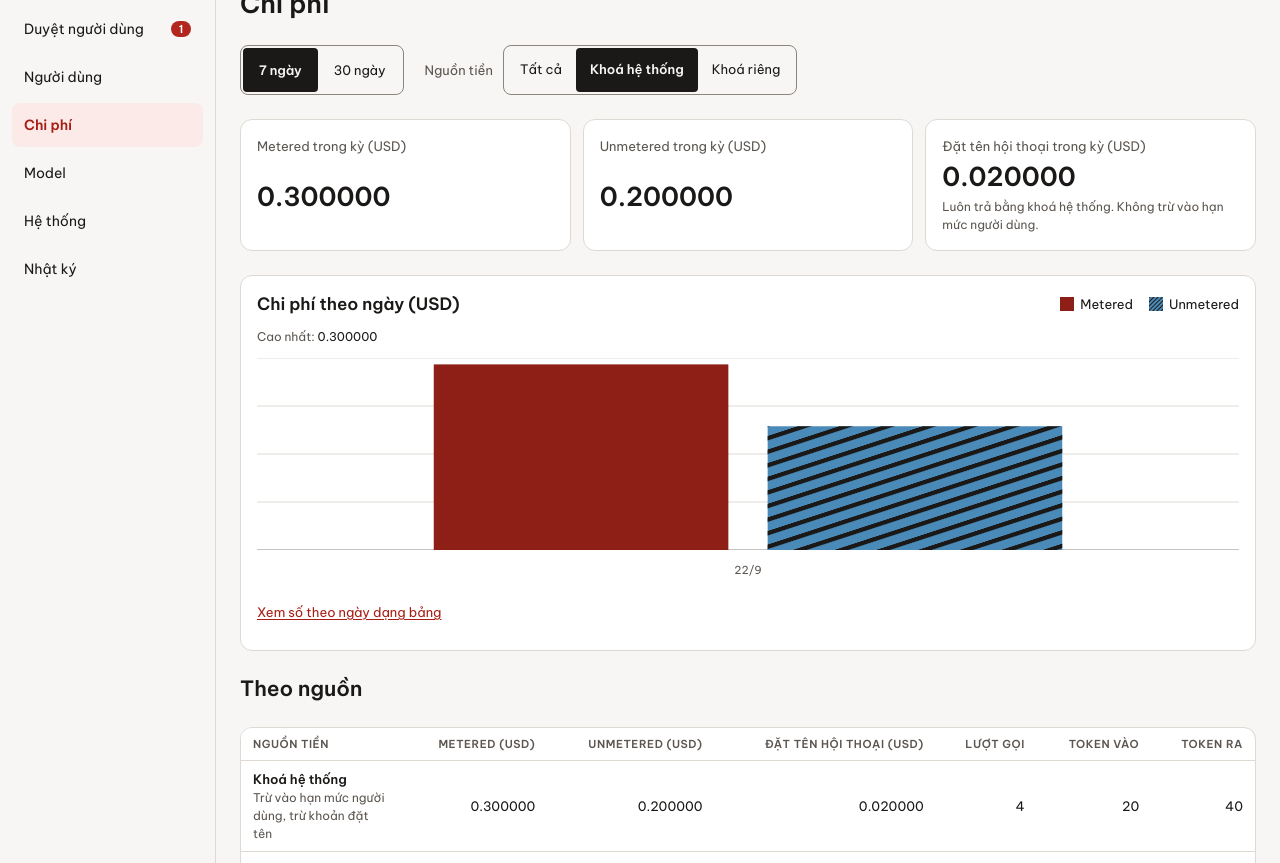
Chi phi › T-S.19c: bang Theo nguon them Token vao/ra; nguon 'Khoa rieng' chi con token + dong duong di
Expected: the column heading "Token vào" is shown, left=1037, top=728, right=1151, bottom=760
Expected: the column heading "Lượt gọi" is shown, left=936, top=728, right=1037, bottom=760
Step 1. Click the radio button labelled "Khoá riêng" → (746, 70), box left=698, top=48, right=794, bottom=92
(page scrolled)
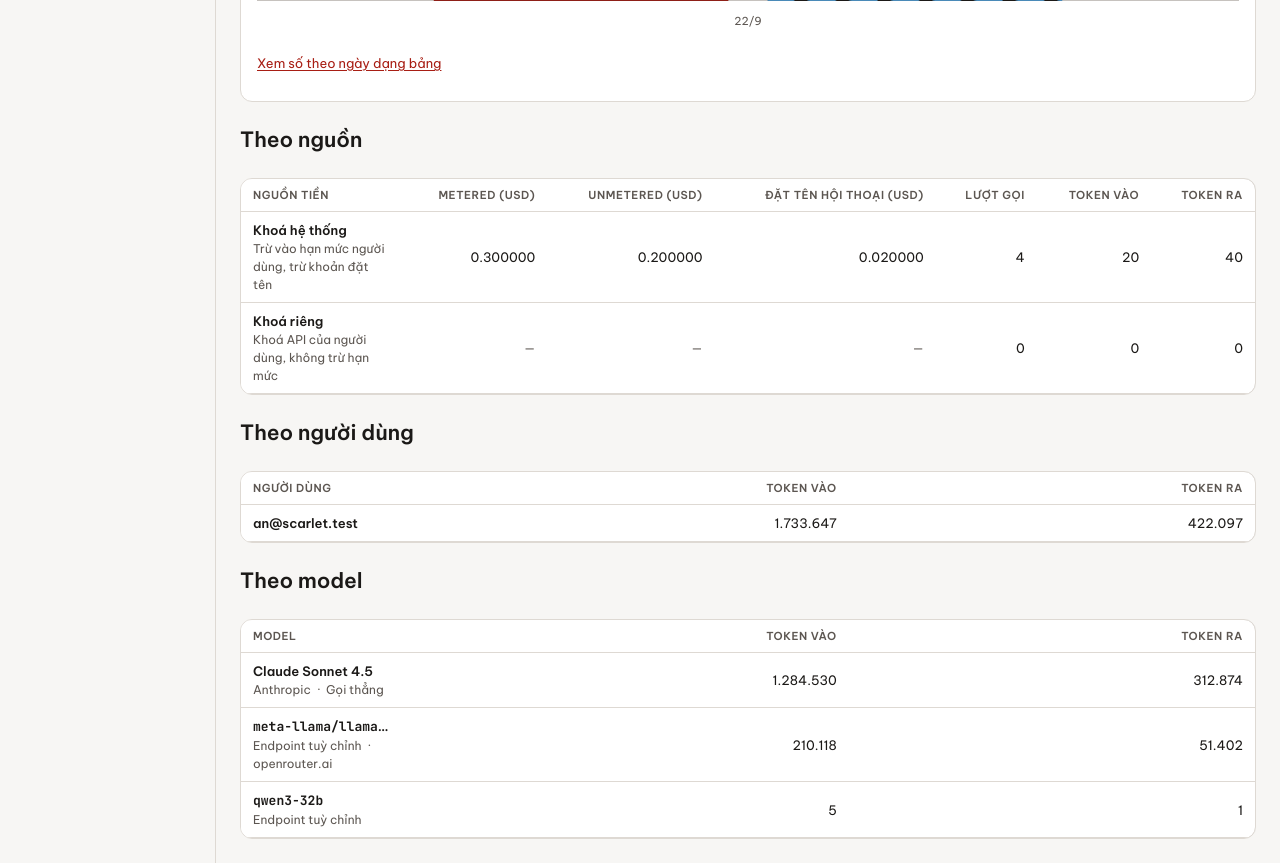
Expected: the text "Metered trong kỳ (USD)" is gone
Expected: the row "qwen3-32b Endpoint tuỳ chỉnh 5 1" is shown, left=241, top=782, right=1255, bottom=838
